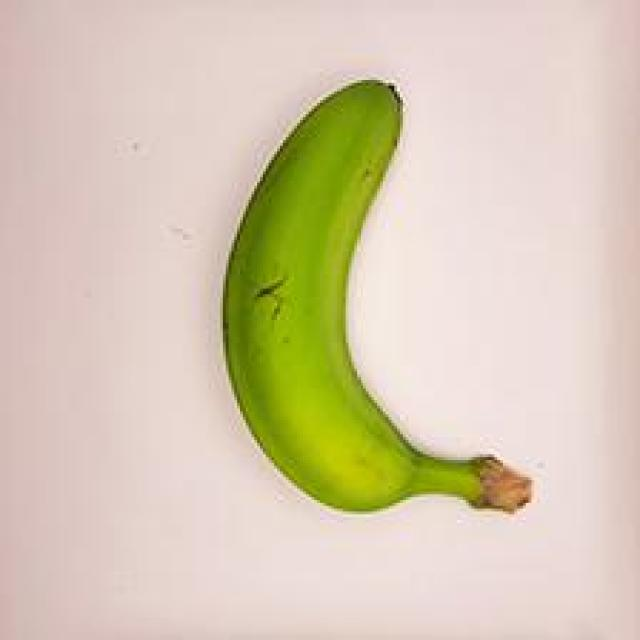unripe: (202, 64, 568, 541)
